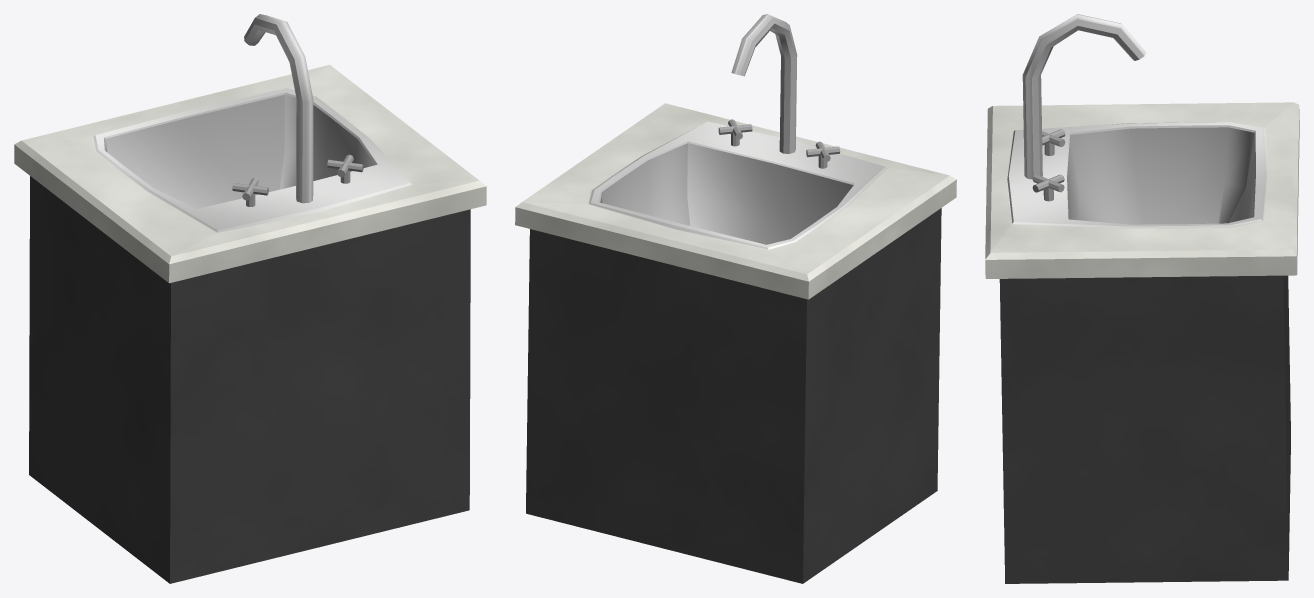
Rendered from KitchenSink.fbx.
3 renders of one model, left to right at view 1: azimuth 30°, elevation 25°; view 2: azimuth 150°, elevation 25°; view 3: azimuth 270°, elevation 25°, orthographic. The views are drawn at different scales.
Visible parts, largest first — view 1: Kitchen_Sink; view 2: Kitchen_Sink; view 3: Kitchen_Sink.
Part boxes in pixels (bbox=[...]): Kitchen_Sink: bbox=[14, 14, 486, 583]; Kitchen_Sink: bbox=[515, 14, 956, 583]; Kitchen_Sink: bbox=[985, 14, 1299, 583].
Size of the model in its own units: 101 by 153 by 87.31.
1 material, 1 textured.
